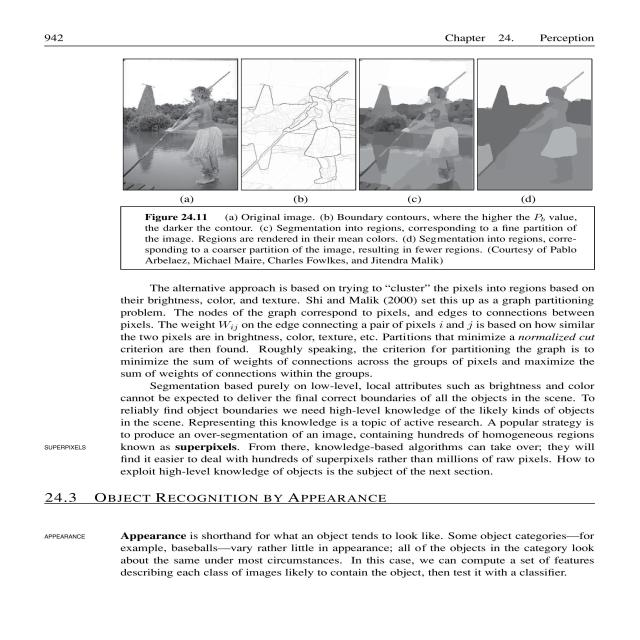diagram: (108, 55, 593, 270)
